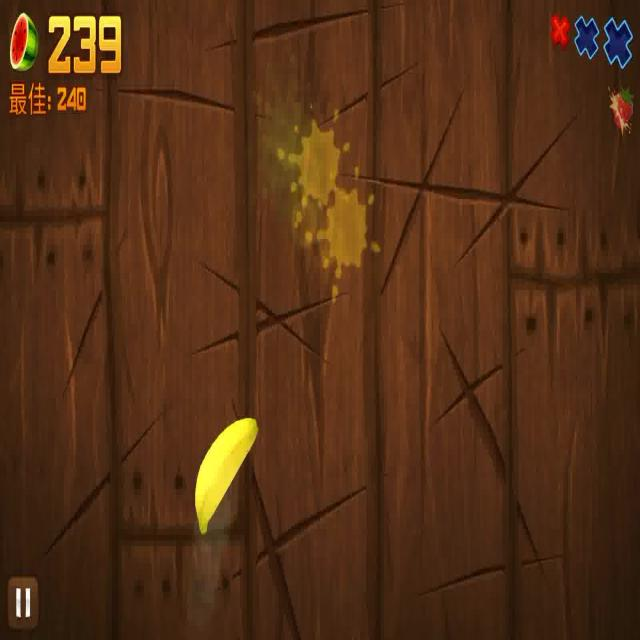fruit: (192, 416, 256, 533)
